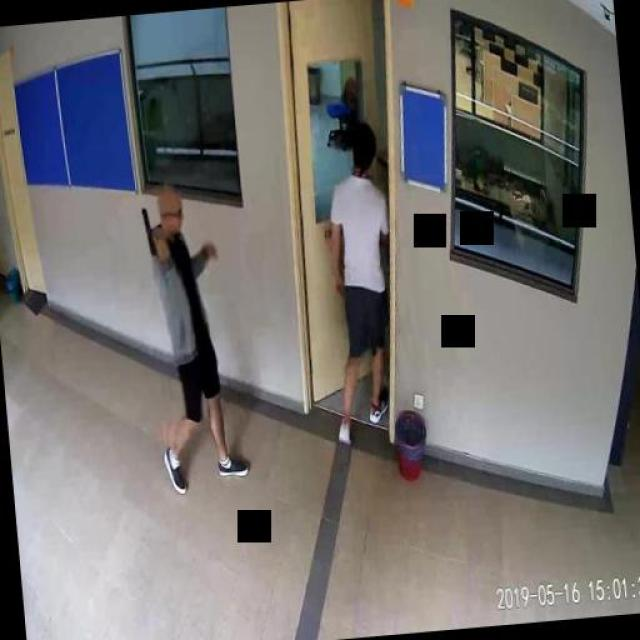gun: (140, 204, 165, 255)
